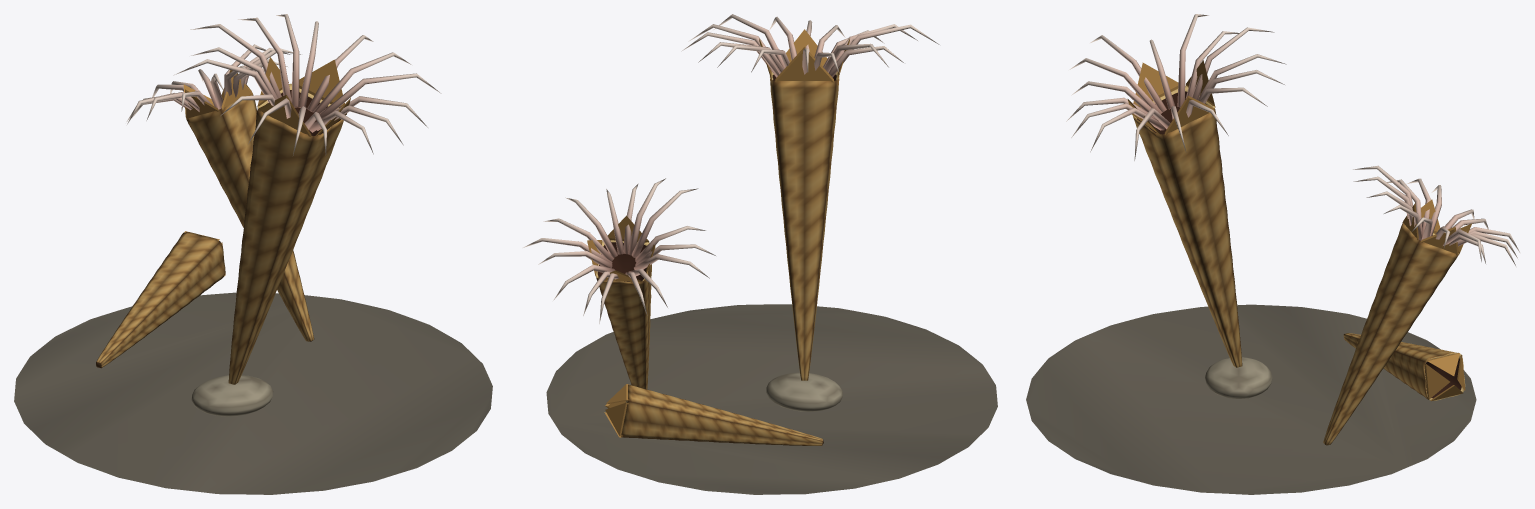
The model's file is ConulariaTrentonensis.fbx.
3 views of the same model, side by side, from view 1: azimuth 30°, elevation 25°; view 2: azimuth 150°, elevation 25°; view 3: azimuth 270°, elevation 25° (orthographic). The views are drawn at different scales.
Parts seen in each view (by area): view 1: ConulariaTrentonensis; view 2: ConulariaTrentonensis; view 3: ConulariaTrentonensis.
Part boxes in pixels (x1,y1,x2,y2): ConulariaTrentonensis: [14, 14, 492, 494]; ConulariaTrentonensis: [523, 14, 997, 494]; ConulariaTrentonensis: [1026, 14, 1519, 494].
Bounding box in the file's own units: 1.8 × 1.59 × 1.98.
